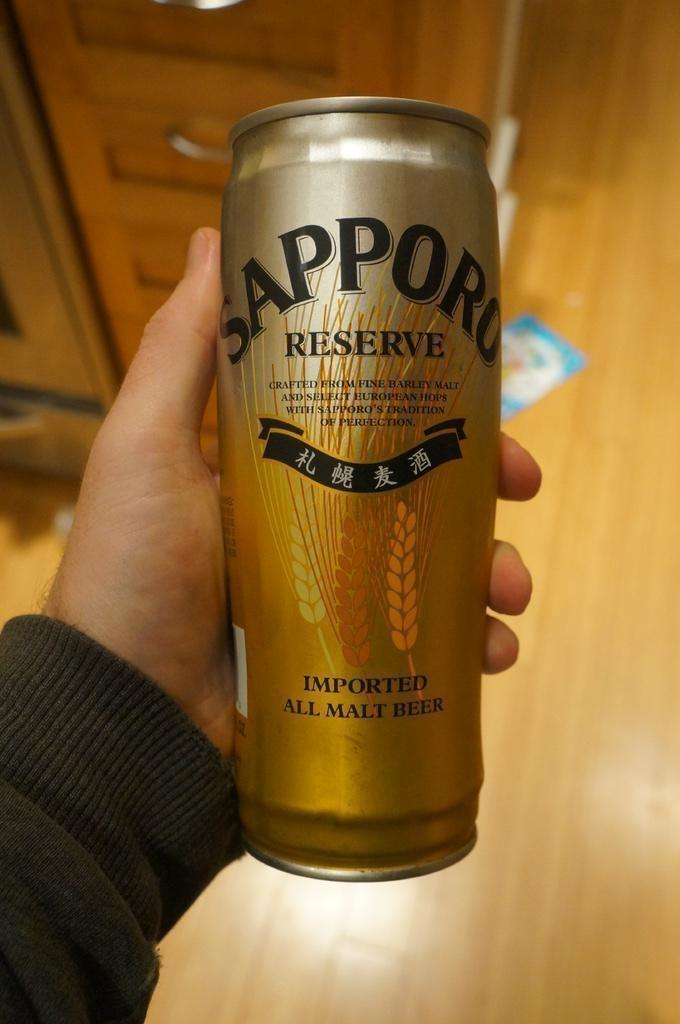tin can: (203, 80, 509, 887)
